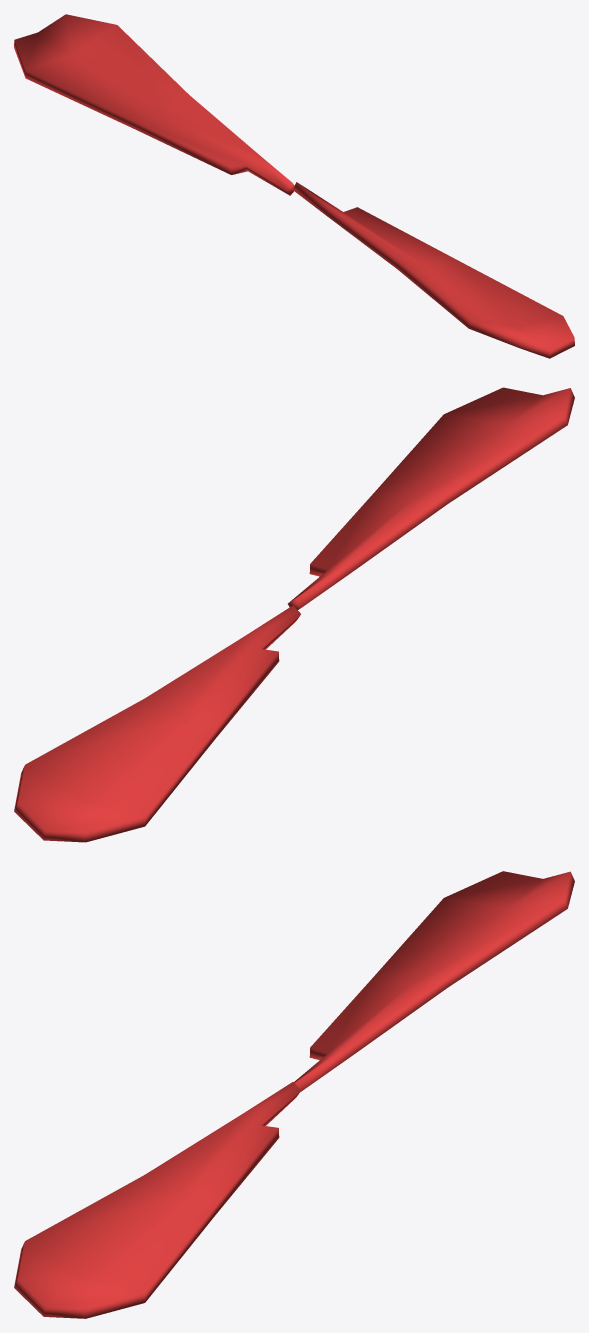
File: propeller1.fbx
3 views of the same model, one above another, from view 1: azimuth 30°, elevation 25°; view 2: azimuth 150°, elevation 25°; view 3: azimuth 330°, elevation 25° (orthographic). The views are drawn at different scales.
Visible parts, largest first — view 1: propeller1.001; view 2: propeller1.001; view 3: propeller1.001.
Boxes of the visible parts, left/top/right/bottom form: propeller1.001: left=14, top=14, right=574, bottom=358; propeller1.001: left=14, top=387, right=574, bottom=842; propeller1.001: left=14, top=871, right=574, bottom=1318.
Bounding box in the file's own units: 2.04 × 0.3832 × 0.0778.
